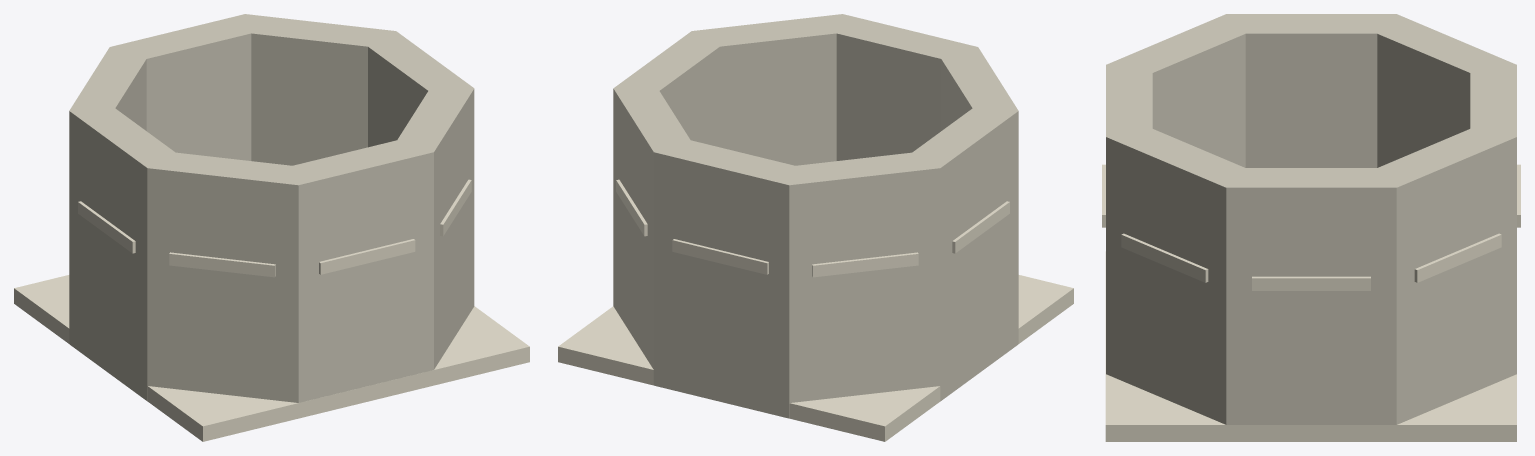
File: octagonal-tower-chamber.glb
3 views of the same model, side by side, from view 1: azimuth 30°, elevation 25°; view 2: azimuth 150°, elevation 25°; view 3: azimuth 270°, elevation 25° (orthographic). The views are drawn at different scales.
Visible parts, largest first — view 1: octagonal-tower-chamber; view 2: octagonal-tower-chamber; view 3: octagonal-tower-chamber.
Boxes of the visible parts, <box> form: octagonal-tower-chamber: <box>14,14,529,441</box>; octagonal-tower-chamber: <box>558,14,1073,441</box>; octagonal-tower-chamber: <box>1102,14,1520,441</box>.
Size of the model in its own units: 4.48 by 3 by 4.48.
